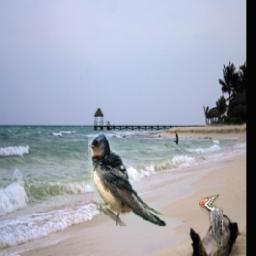Swallow: (89, 134, 186, 226)
Woodpecker: (200, 194, 224, 247)
